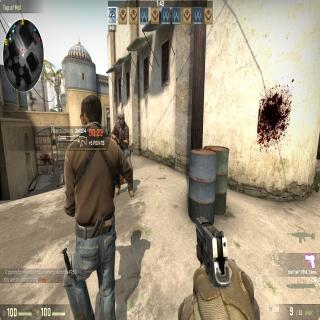T-Body: (63, 93, 114, 320), (113, 103, 132, 199)
T-Head: (76, 94, 107, 134), (115, 109, 125, 128)
